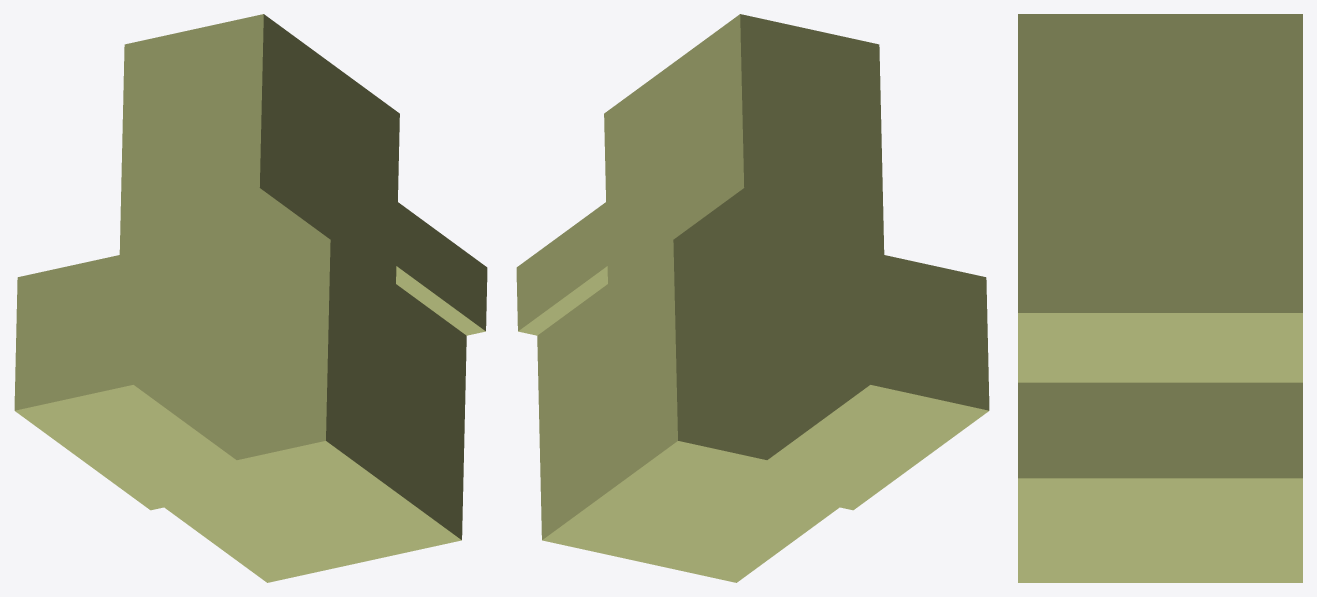
3 renders of one model, left to right at view 1: azimuth 30°, elevation 25°; view 2: azimuth 150°, elevation 25°; view 3: azimuth 270°, elevation 25°, orthographic. The views are drawn at different scales.
Visible parts, largest first — view 1: 0_0_2_0_1_0_1_3_0_1_0; view 2: 0_0_2_0_1_0_1_3_0_1_0; view 3: 0_0_2_0_1_0_1_3_0_1_0.
Part boxes in pixels (x1,y1,x2,y2): 0_0_2_0_1_0_1_3_0_1_0: (14,14,487,582); 0_0_2_0_1_0_1_3_0_1_0: (516,14,989,582); 0_0_2_0_1_0_1_3_0_1_0: (1018,14,1302,582).
Size of the model in its own units: 8.57 by 10.83 by 6.
